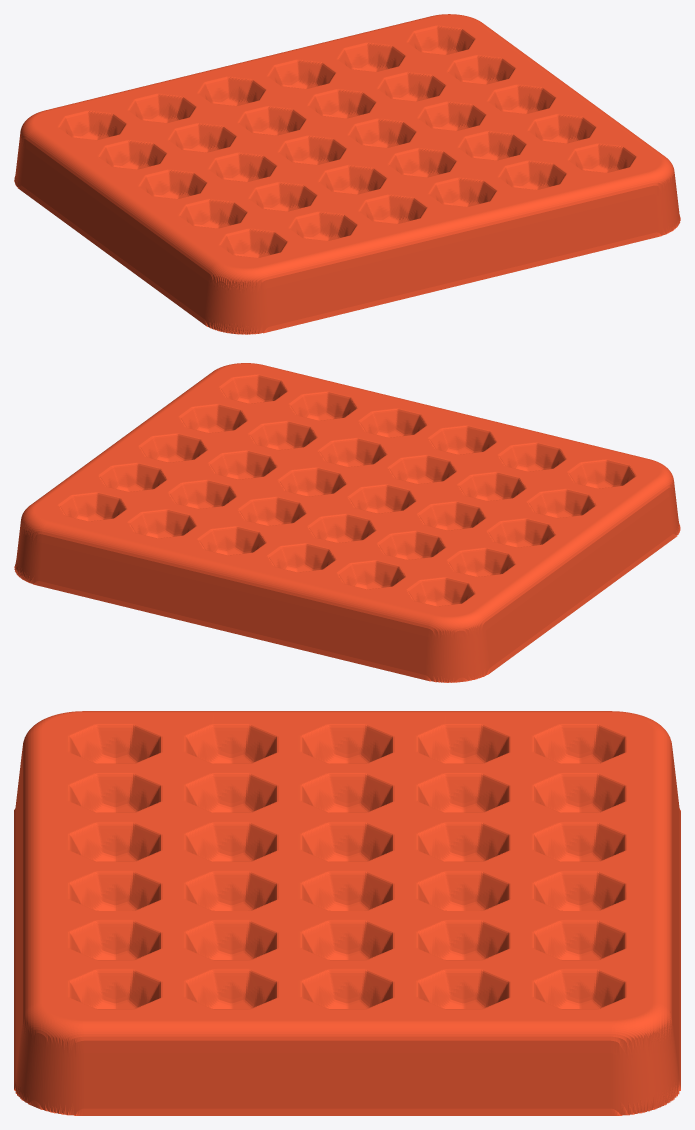
Rendered from mold.glb.
3 views of the same model, one above another, from view 1: azimuth 30°, elevation 25°; view 2: azimuth 150°, elevation 25°; view 3: azimuth 270°, elevation 25° (orthographic). The views are drawn at different scales.
Visible parts, largest first — view 1: geometry_0; view 2: geometry_0; view 3: geometry_0.
Boxes of the visible parts, x1=… form: geometry_0: x1=14, y1=14, x2=680, y2=334; geometry_0: x1=14, y1=363, x2=680, y2=682; geometry_0: x1=14, y1=711, x2=680, y2=1115.
Size of the model in its own units: 0.1012 by 0.0119 by 0.0862.
